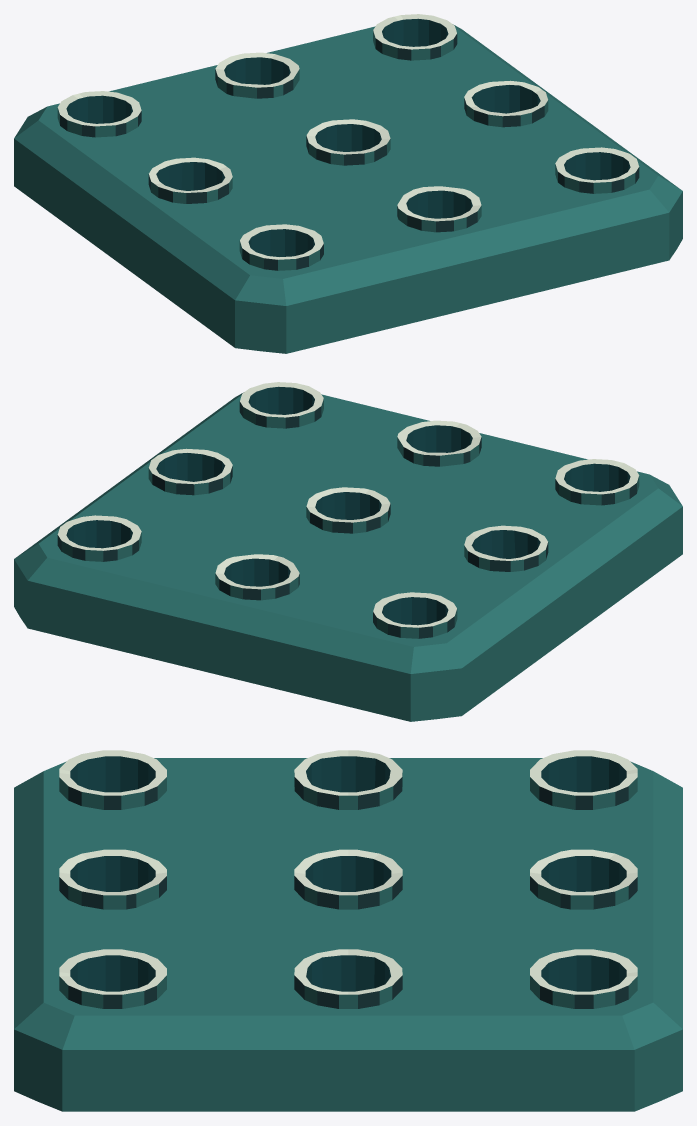
Rendered from trap_plane.glb.
The picture shows the model from 3 angles, top to bottom: view 1: azimuth 30°, elevation 25°; view 2: azimuth 150°, elevation 25°; view 3: azimuth 270°, elevation 25°; orthographic projection. The views are drawn at different scales.
Visible parts, largest first — view 1: Куб; view 2: Куб; view 3: Куб.
Boxes of the visible parts, x1,y1,x2,y2 form: Куб: (14,14,682,353); Куб: (14,382,682,721); Куб: (14,750,682,1111).
Size of the model in its own units: 2.84 by 0.4582 by 2.84.
Materials: 1 (1 with a texture image).
